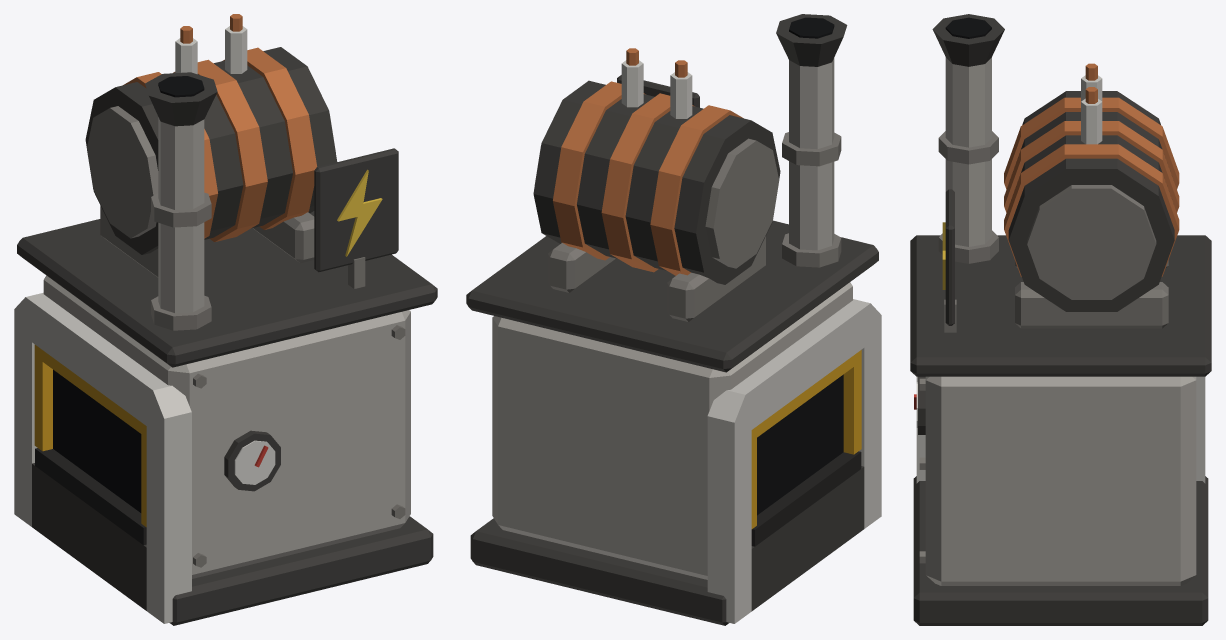
Rendered from generator.fbx.
The picture shows the model from 3 angles, left to right: view 1: azimuth 30°, elevation 25°; view 2: azimuth 150°, elevation 25°; view 3: azimuth 270°, elevation 25°; orthographic projection. The views are drawn at different scales.
Parts seen in each view (by area): view 1: generator; view 2: generator; view 3: generator.
Boxes of the visible parts, x1,y1,x2,y2 form: generator: (14, 14, 437, 625); generator: (466, 14, 881, 625); generator: (910, 14, 1211, 625).
Bounding box in the file's own units: 2.97 × 5.33 × 2.94.
